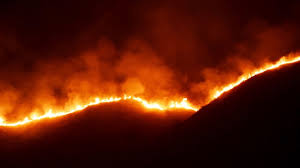fire: (1, 87, 200, 121), (212, 67, 296, 93)
smoke: (27, 21, 207, 81)
